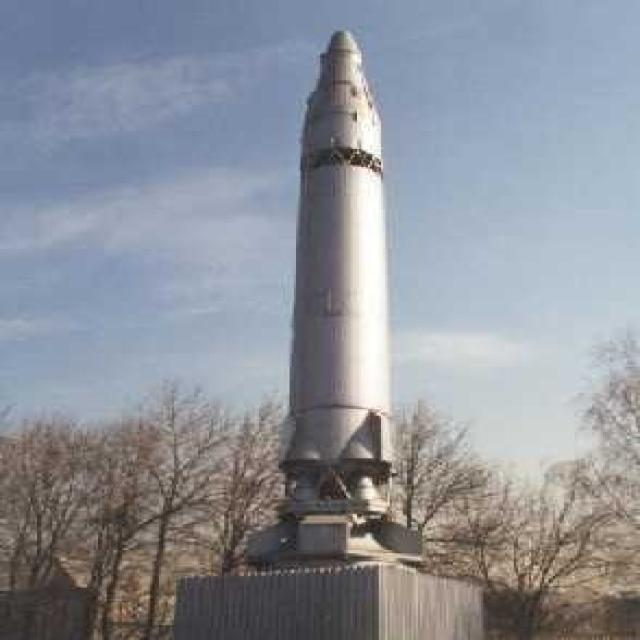missile: (267, 25, 440, 556)
